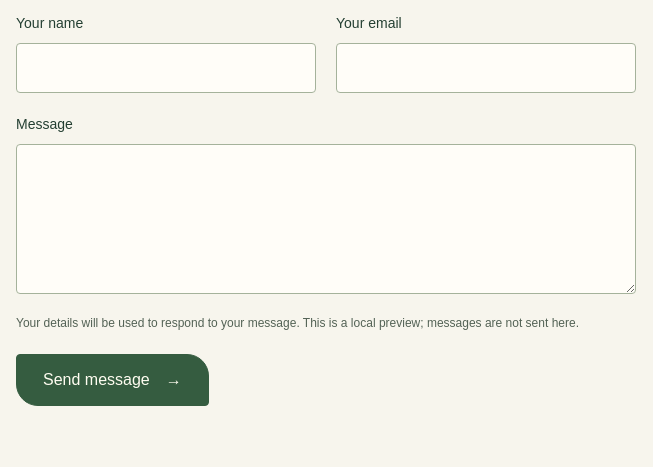
local preview never submits or claims success
The width and height of the screenshot is (653, 467).
Type "Test Visitor" into the field labelled "Your name".
click(166, 68); type("Test Visitor")  # box x1=16 y1=43 x2=316 y2=93
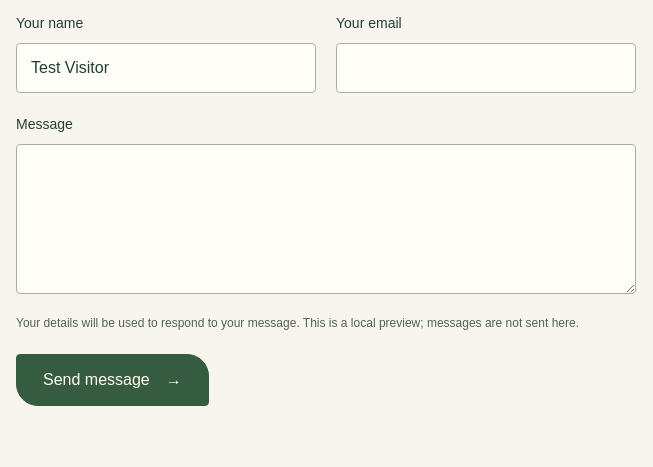
Type "visitor@example.com" into the field labelled "Your email".
click(486, 68); type("visitor@example.com")  # box x1=336 y1=43 x2=636 y2=93
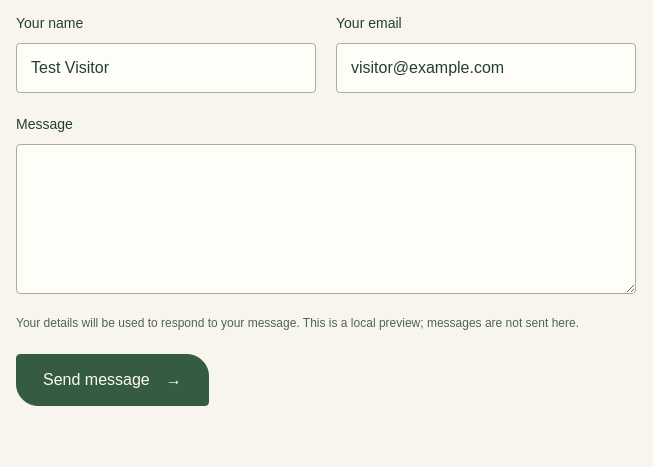
Type "A question about your work & projects." into the text box labelled "Message".
click(326, 219); type("A question about your work & projects.")  # box x1=16 y1=144 x2=636 y2=294
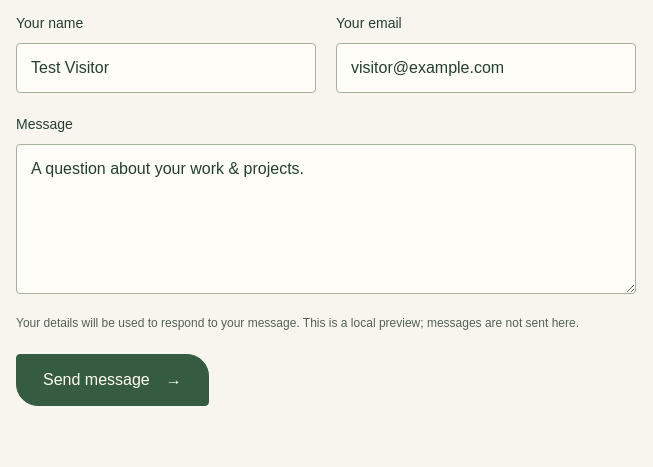
Submit the form
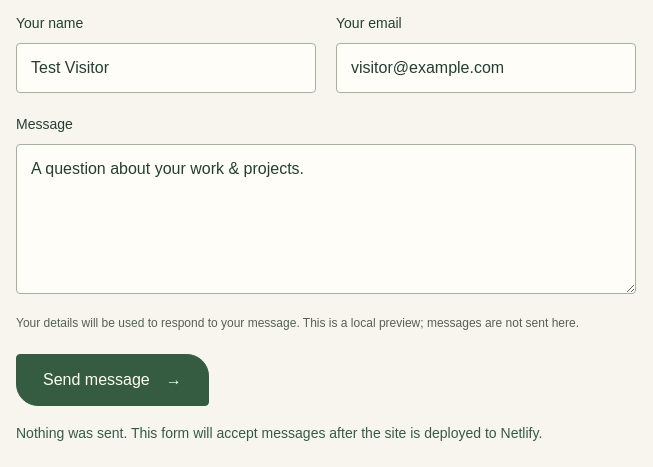
Check: the text "Nothing was sent" is shown, box x1=16 y1=425 x2=542 y2=441
